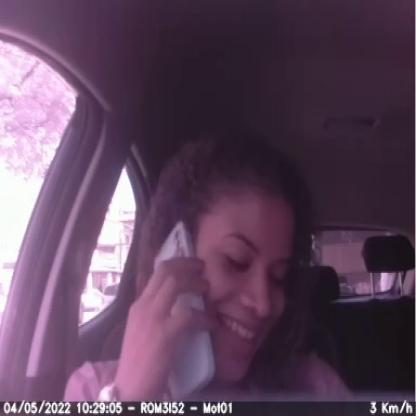phone: (145, 222, 220, 402)
